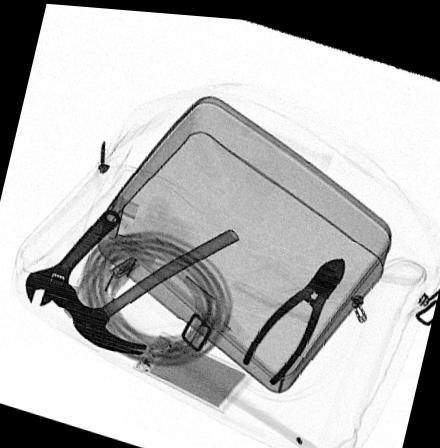Hammer: (49, 225, 239, 353)
Pliers: (241, 253, 345, 382)
Powerbank: (131, 330, 254, 411)
Wrench: (24, 207, 121, 307)
